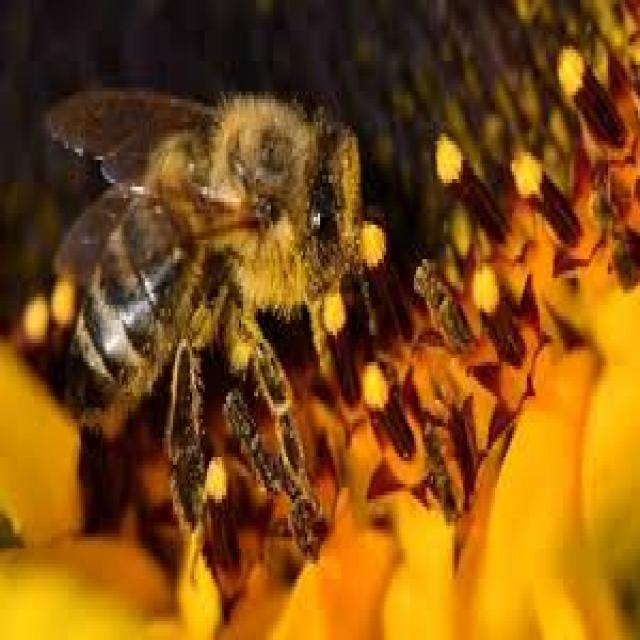Bees: (50, 85, 365, 542)
